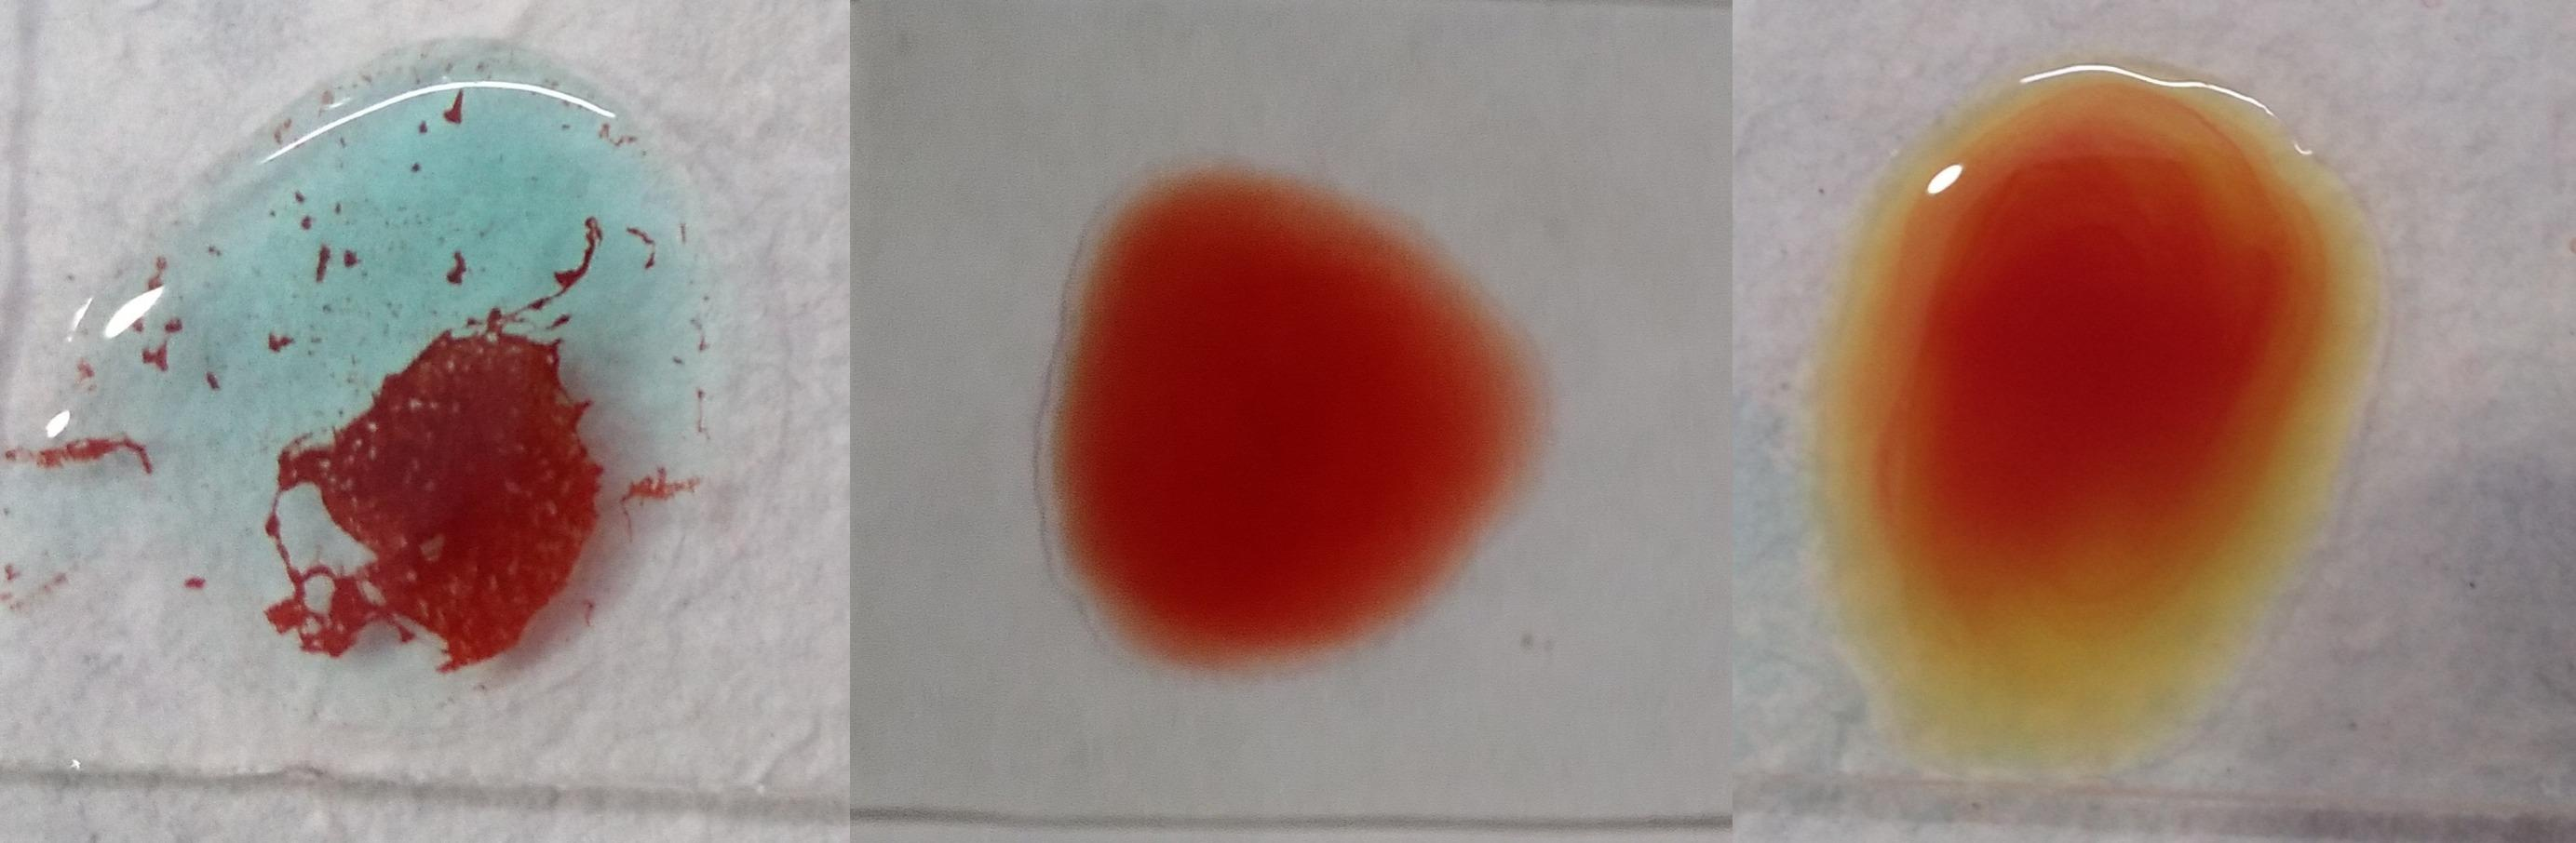A: (79, 64, 728, 733)
